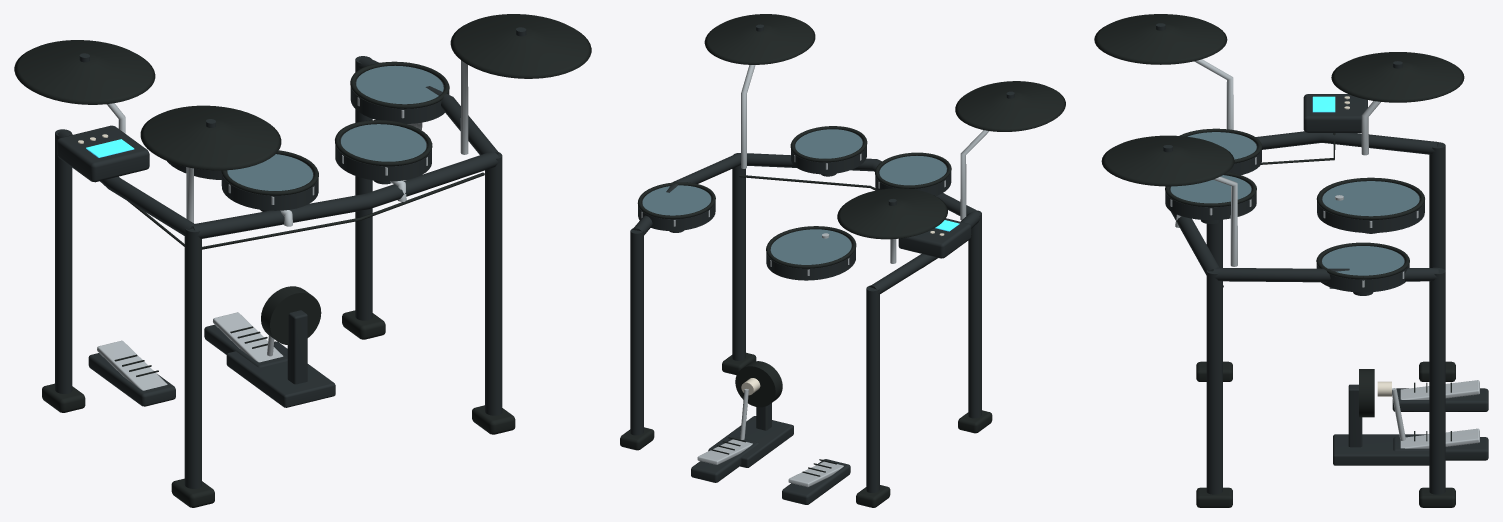
The model's file is electronic-drum-kit.glb.
3 renders of one model, left to right at view 1: azimuth 30°, elevation 25°; view 2: azimuth 150°, elevation 25°; view 3: azimuth 270°, elevation 25°, orthographic. The views are drawn at different scales.
Parts seen in each view (by area): view 1: catalog_surface_RealismUV, catalog_surface_UVMap; view 2: catalog_surface_RealismUV, catalog_surface_UVMap; view 3: catalog_surface_RealismUV, catalog_surface_UVMap.
Part boxes in pixels (x1=…): catalog_surface_RealismUV: x1=14, y1=14, x2=591, y2=507; catalog_surface_UVMap: x1=55, y1=27, x2=526, y2=488; catalog_surface_RealismUV: x1=620, y1=14, x2=1065, y2=507; catalog_surface_UVMap: x1=630, y1=24, x2=1014, y2=504; catalog_surface_RealismUV: x1=1094, y1=14, x2=1479, y2=507; catalog_surface_UVMap: x1=1156, y1=23, x2=1488, y2=494.
Size of the model in its own units: 1.25 by 1.15 by 1.15.
